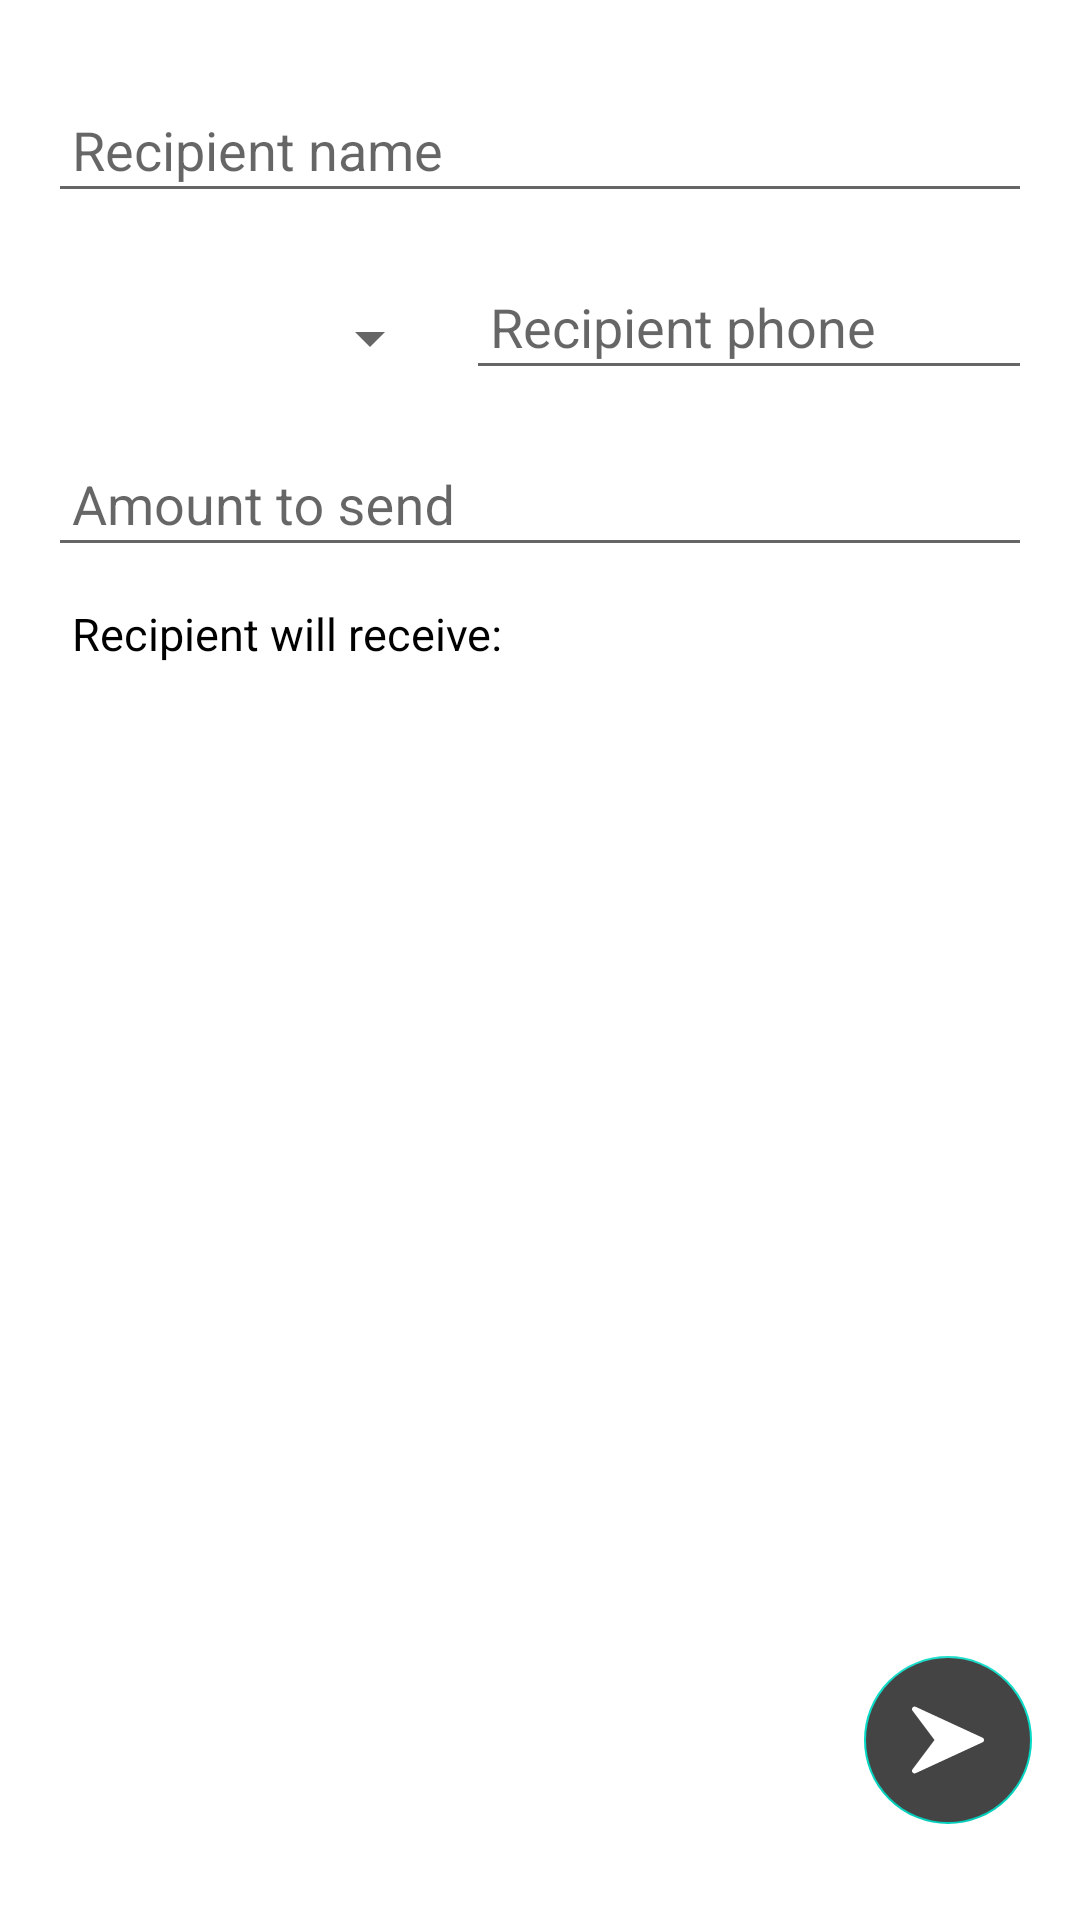

Where to tap for icons on this 1080*1920 app screen, as [x,y]:
send: [948,1740]
